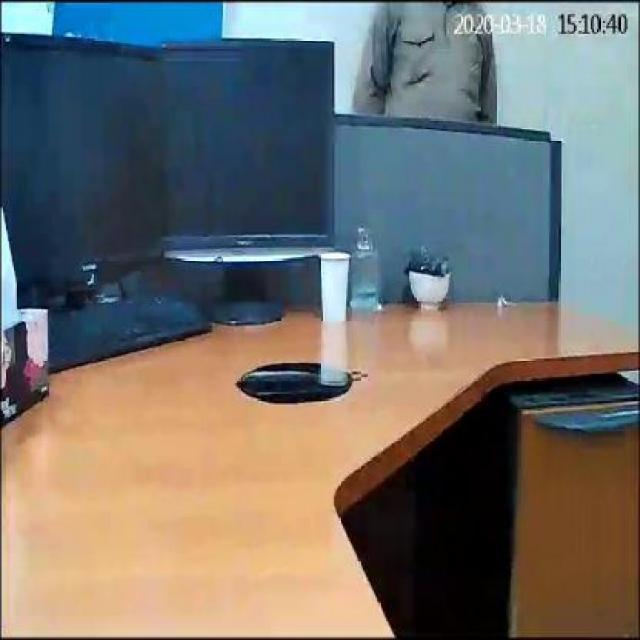spill: (236, 357, 370, 408)
